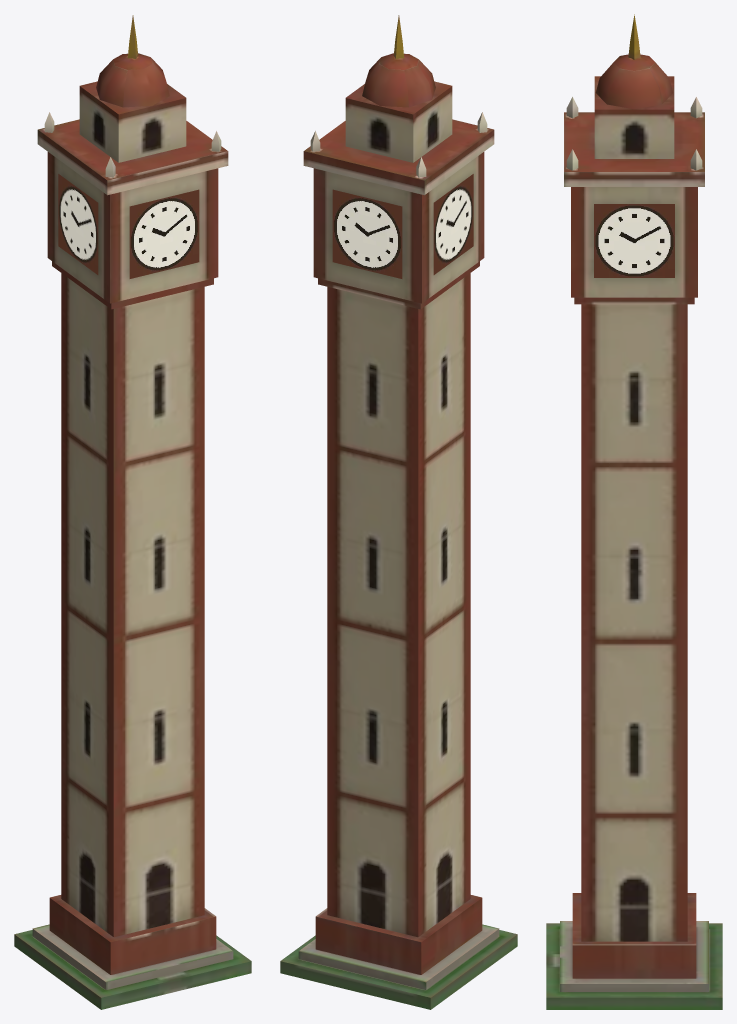
File: secunderabad_clock_tower.glb
3 views of the same model, side by side, from view 1: azimuth 30°, elevation 25°; view 2: azimuth 150°, elevation 25°; view 3: azimuth 270°, elevation 25° (orthographic).
Visible parts, largest first — view 1: secunderabad_clock_tower_body, secunderabad_clock_tower_sheet; view 2: secunderabad_clock_tower_body, secunderabad_clock_tower_sheet; view 3: secunderabad_clock_tower_body, secunderabad_clock_tower_sheet.
Boxes of the visible parts, x1=… form: secunderabad_clock_tower_body: x1=14, y1=15, x2=251, y2=1009; secunderabad_clock_tower_sheet: x1=58, y1=174, x2=199, y2=278; secunderabad_clock_tower_body: x1=280, y1=15, x2=517, y2=1009; secunderabad_clock_tower_sheet: x1=332, y1=174, x2=473, y2=278; secunderabad_clock_tower_body: x1=546, y1=14, x2=722, y2=1009; secunderabad_clock_tower_sheet: x1=594, y1=204, x2=674, y2=277.
Size of the model in its own units: 18.2 by 109 by 18.2.
Materials: 2 (2 with a texture image).
